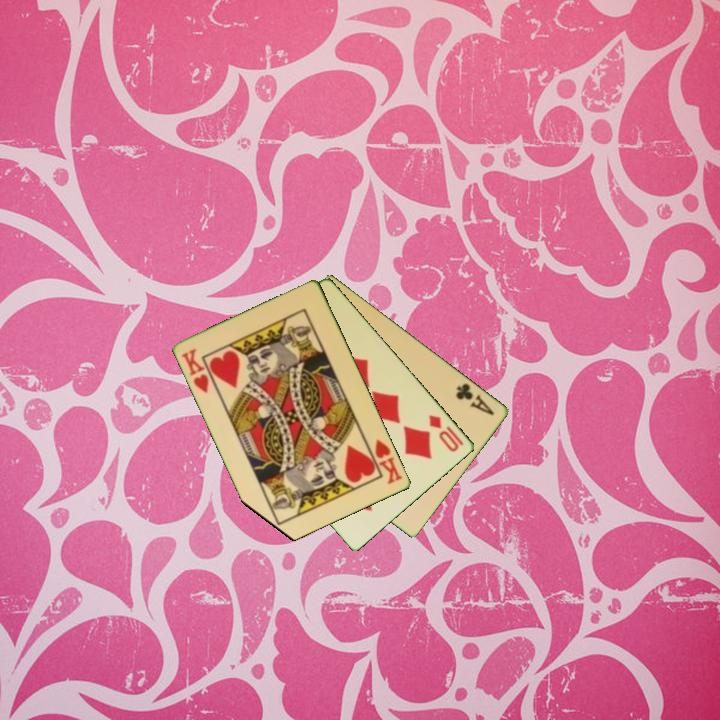10d: (425, 411, 467, 455)
Ac: (453, 379, 498, 418)
Kh: (363, 436, 406, 487), (178, 345, 212, 396)
